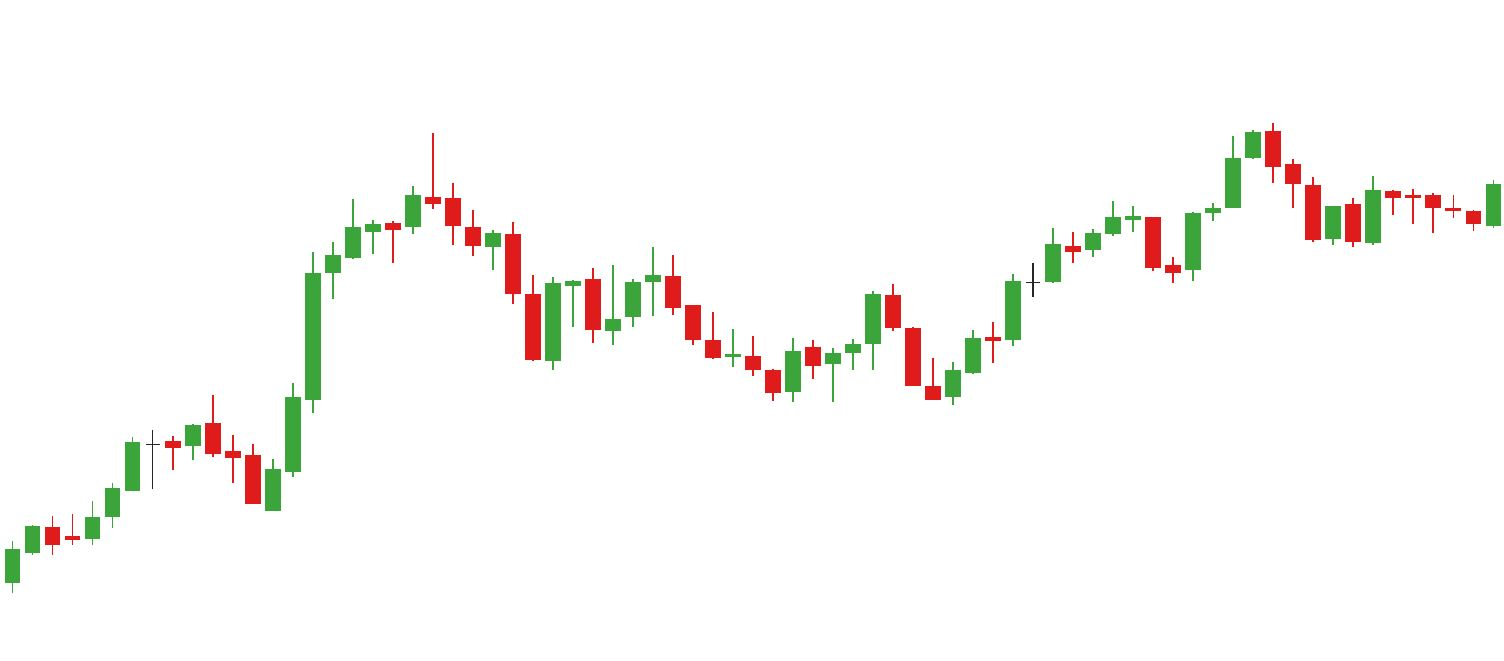buy: (143, 421, 282, 516), (822, 317, 962, 409)
